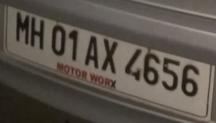0: (51, 21, 67, 57)
1: (68, 27, 79, 61)
4: (124, 44, 144, 82)
5: (161, 54, 182, 95)
6: (181, 61, 202, 97), (143, 48, 161, 86)
A: (82, 32, 101, 70)
H: (31, 15, 46, 50)
M: (14, 9, 30, 47)
X: (101, 34, 122, 75)
